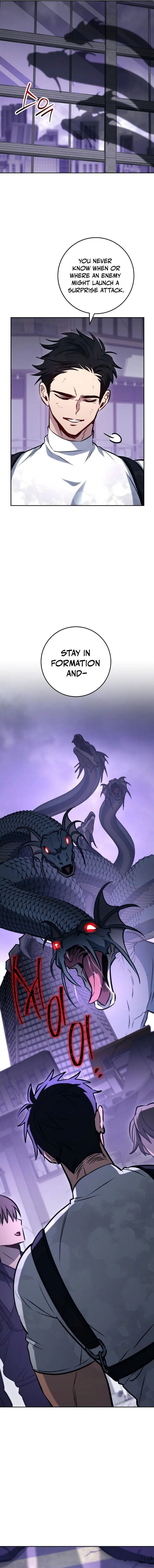bubbles: (55, 235, 135, 327), (38, 624, 113, 699)
